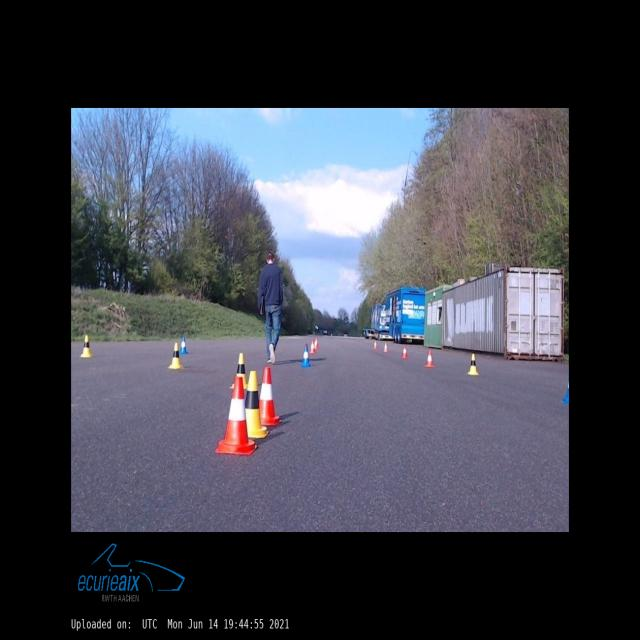blue_cone: (301, 345, 311, 367), (180, 337, 188, 354)
orange_cone: (215, 377, 257, 455), (259, 366, 282, 426), (425, 350, 434, 367), (402, 346, 408, 358), (309, 341, 315, 353), (384, 342, 388, 352), (314, 340, 317, 350), (373, 341, 377, 348)
yellow_cone: (246, 371, 268, 437), (230, 353, 248, 389), (168, 342, 182, 368), (80, 335, 92, 357), (467, 354, 479, 375)
